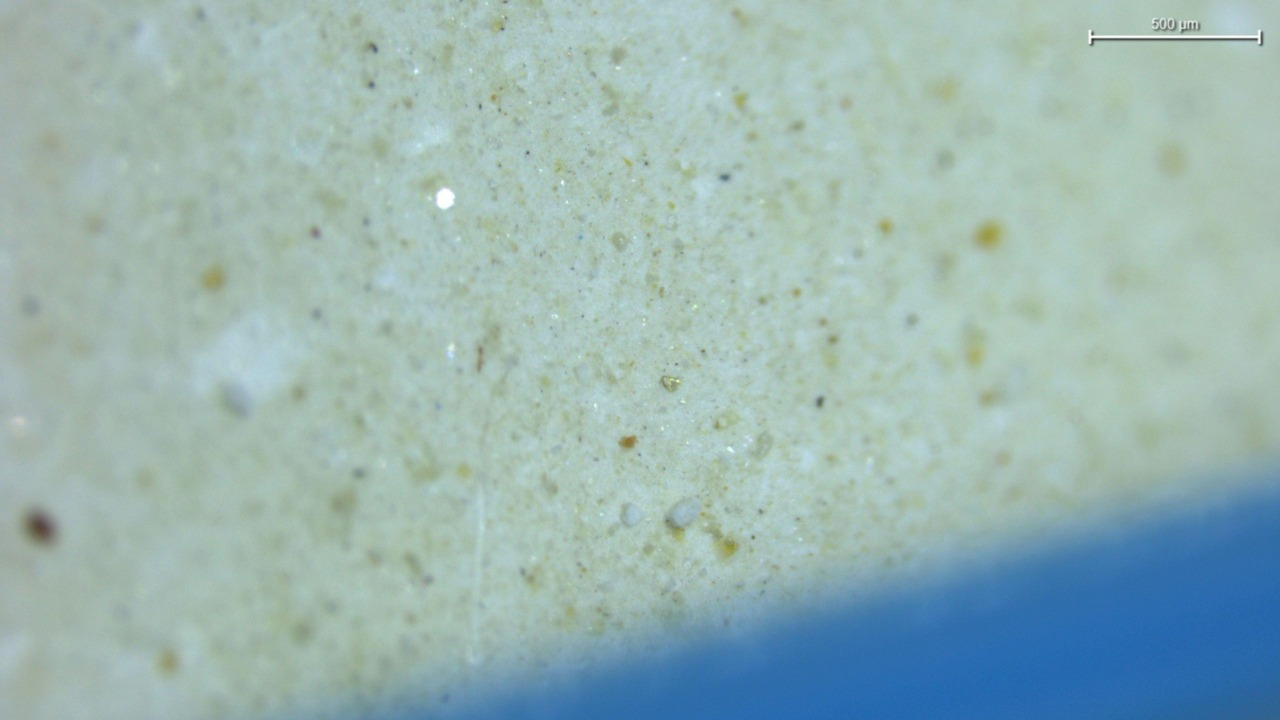microplastic_fragment: (667, 497, 701, 528), (621, 503, 644, 526)
